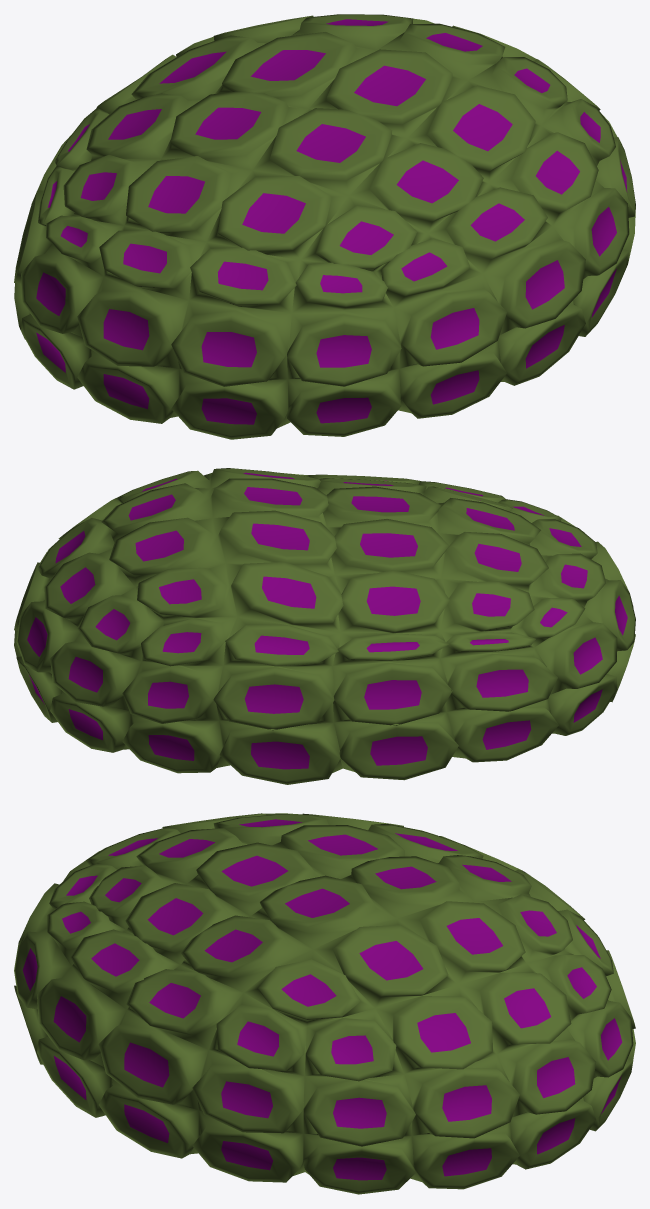
The model's file is Sponge Stone Inverted.fbx.
3 renders of one model, top to bottom at view 1: azimuth 30°, elevation 25°; view 2: azimuth 150°, elevation 25°; view 3: azimuth 270°, elevation 25°, orthographic. The views are drawn at different scales.
Visible parts, largest first — view 1: Cube.007; view 2: Cube.007; view 3: Cube.007.
Boxes of the visible parts, x1,y1,x2,y2 form: Cube.007: (14,14,635,439); Cube.007: (14,468,635,784); Cube.007: (14,813,635,1194).
Bounding box in the file's own units: 158 × 61.54 × 149.
